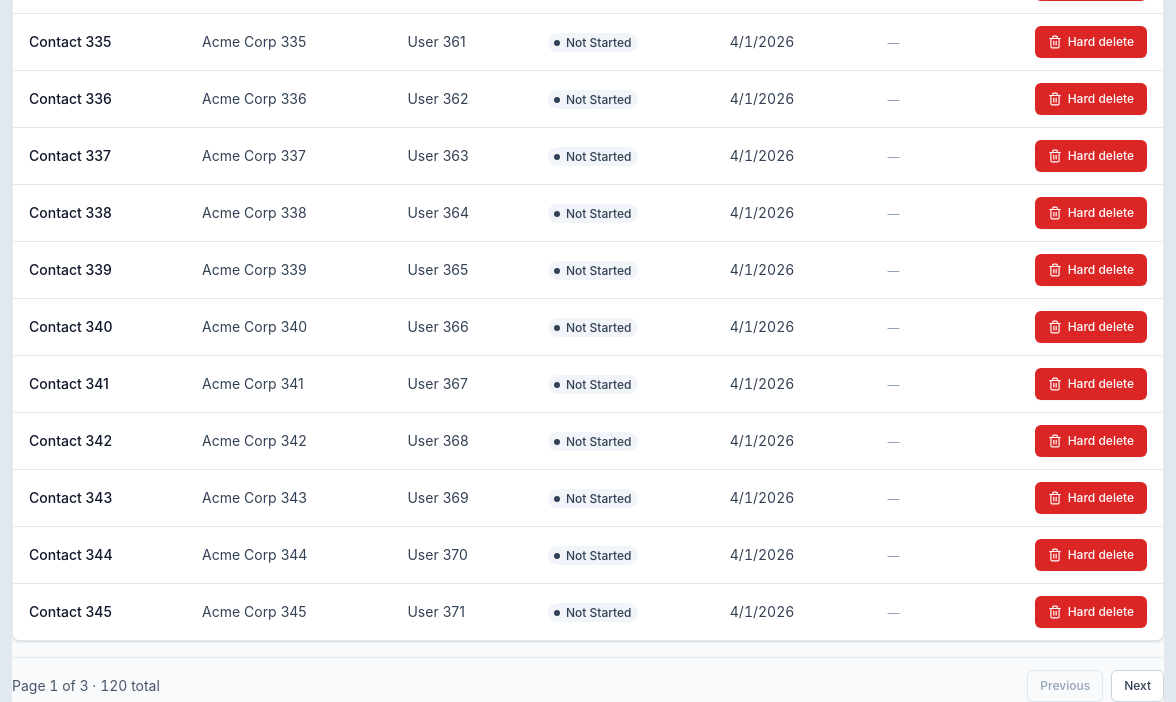
Scenario: <RecordModeration /> › pagination › Next button advances to page 2
(page scrolled)
Click the button with test id "record-moderation-next-page" at coordinates (1138, 686), box [1111,670,1164,701]
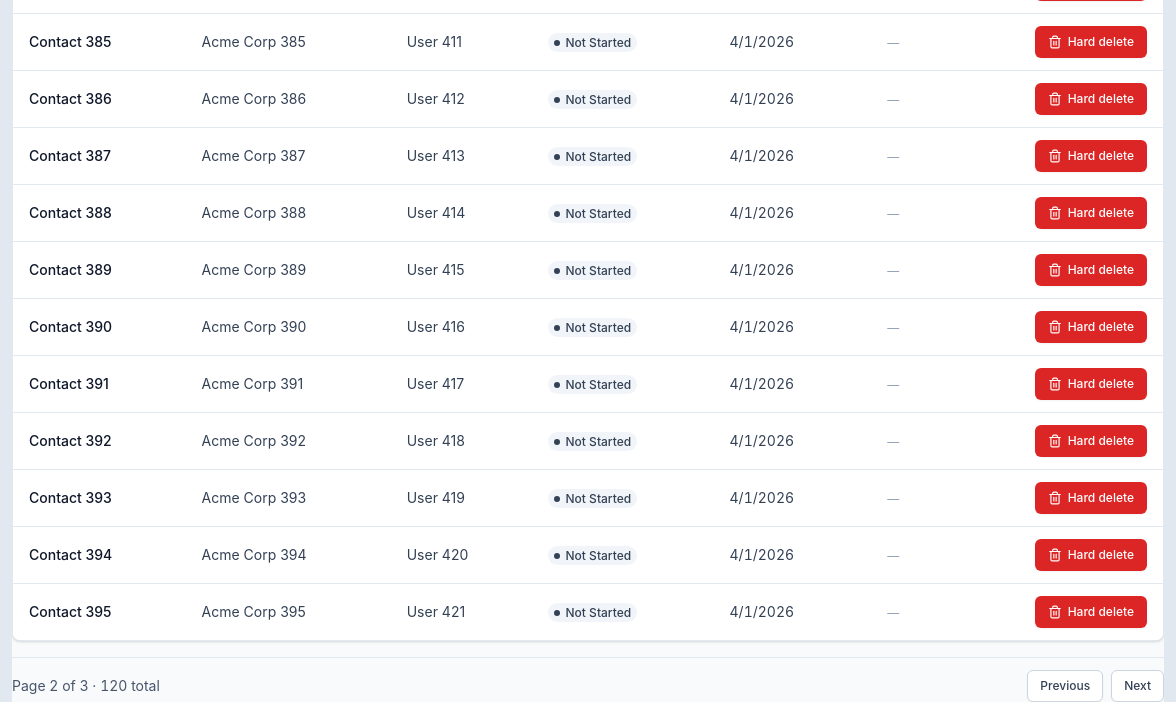
expect the text "Page 2 of 3 · 120 total" is shown: met, box [12,676,160,696]
